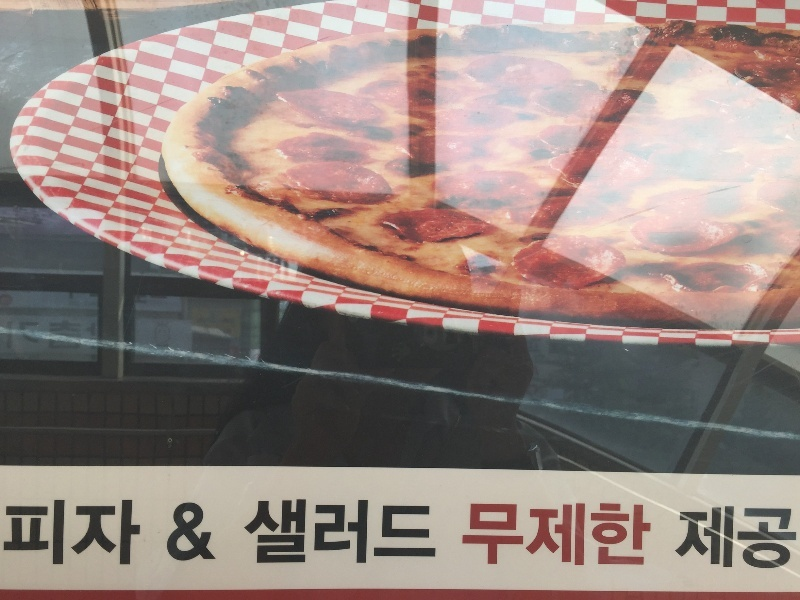text: (17, 497, 32, 571), (33, 497, 48, 571), (49, 497, 64, 571), (65, 497, 80, 571), (81, 497, 96, 571), (97, 497, 112, 571), (113, 497, 128, 571), (129, 497, 144, 571), (257, 498, 272, 565), (273, 498, 288, 565), (289, 498, 304, 565), (305, 498, 320, 565), (321, 498, 336, 565), (337, 498, 352, 565), (353, 498, 368, 565), (369, 498, 384, 565), (385, 498, 400, 565), (401, 498, 416, 565), (417, 498, 432, 565), (689, 505, 704, 571), (705, 505, 720, 571), (721, 505, 736, 571), (737, 505, 752, 571), (753, 505, 768, 571), (769, 505, 784, 571), (465, 501, 480, 566), (481, 501, 496, 566), (497, 501, 512, 566), (513, 501, 528, 566), (529, 501, 544, 566), (545, 501, 560, 566), (561, 501, 576, 566), (577, 501, 592, 566), (593, 501, 608, 566), (609, 501, 624, 566), (625, 501, 640, 566), (177, 501, 192, 562), (193, 501, 208, 562), (785, 505, 798, 571), (5, 497, 16, 571), (676, 505, 688, 571), (245, 498, 256, 565), (641, 501, 651, 566), (209, 501, 218, 562), (433, 498, 437, 565), (145, 497, 147, 571), (174, 501, 176, 562), (463, 501, 464, 566)
